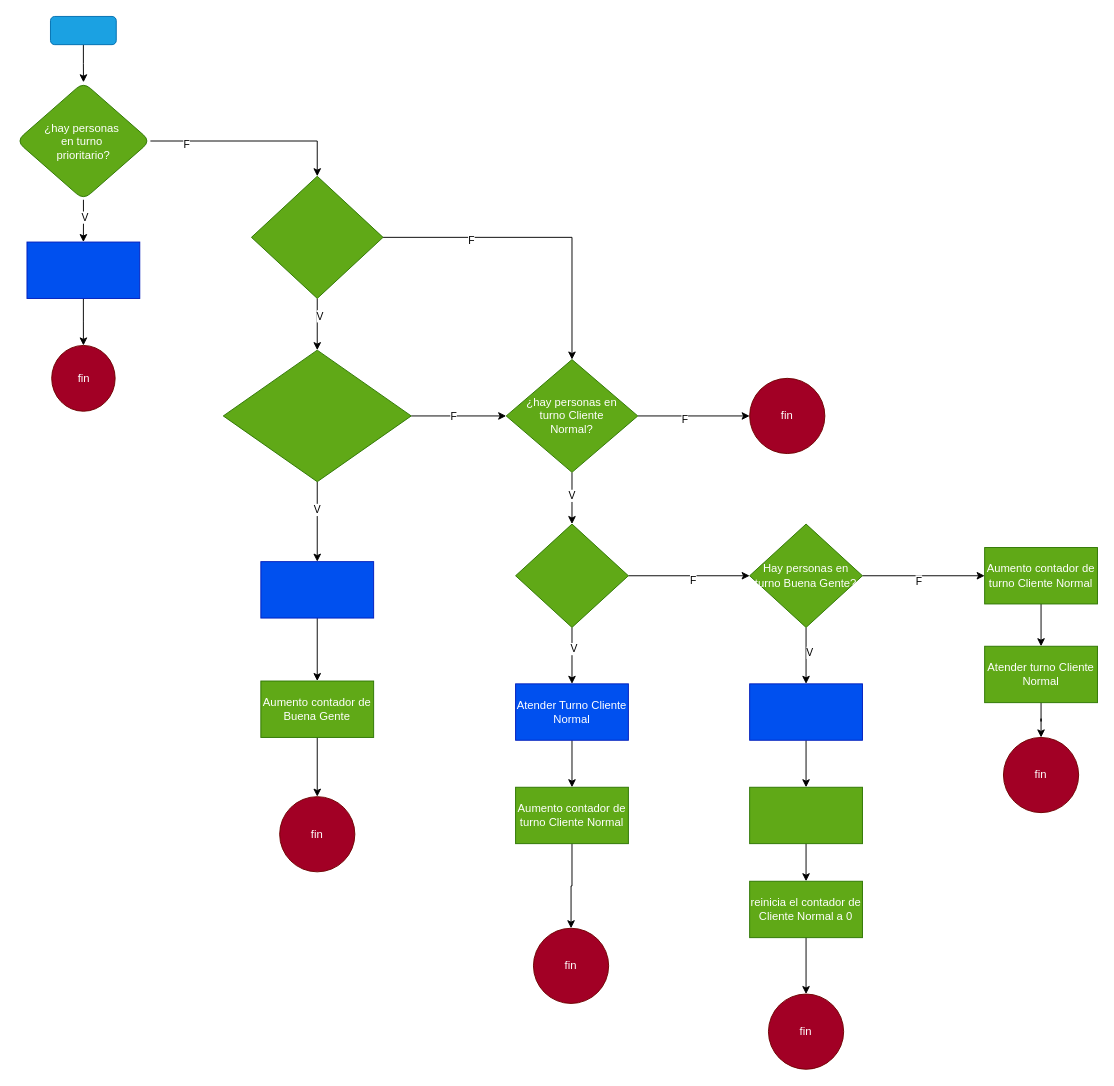
This 1114x1086 diagram has some shape labels left out. The centre of each missing label's shape, as x and y in pixels:
"Atender a prioritario" belongs at point 83,269.
"Atender turno Buena Gente" belongs at point 317,589.
"Atender Turno Buena Gtente" belongs at point 805,711.
"Inicio" belongs at point 83,30.
"reinicia el contador de Buena Gente a 1" belongs at point 805,815.
"turnos atendidos es < a 3 o no hay personas en cCiente Normal" belongs at point 316,415.
"¿el contador de Cliente Normal es < 2?" belongs at point 571,575.
"¿hay personas en turno Buena Gente ?" belongs at point 317,236.
